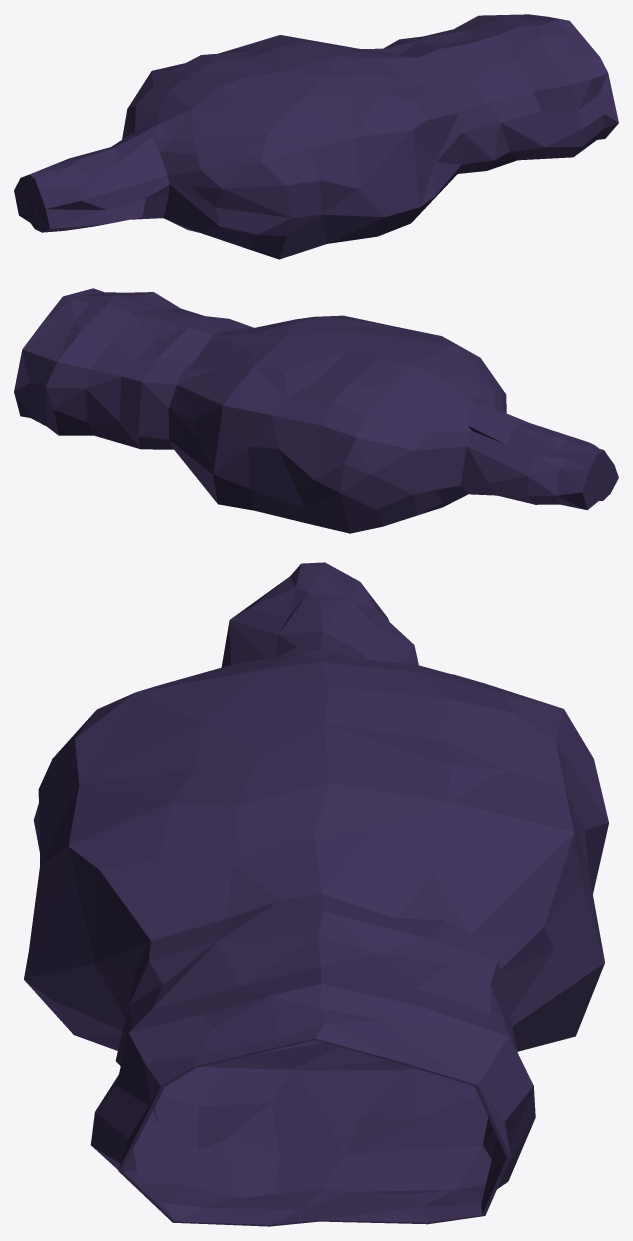
The model's file is Bigcave.fbx.
The picture shows the model from 3 angles, top to bottom: view 1: azimuth 30°, elevation 25°; view 2: azimuth 150°, elevation 25°; view 3: azimuth 270°, elevation 25°; orthographic projection. The views are drawn at different scales.
Visible parts, largest first — view 1: Cube; view 2: Cube; view 3: Cube.
Part boxes in pixels (box(x1,y1,x2,y2)): Cube: box(14, 14, 618, 259); Cube: box(14, 288, 618, 533); Cube: box(24, 562, 608, 1226).
Size of the model in its own units: 71979 by 17001 by 33914.
